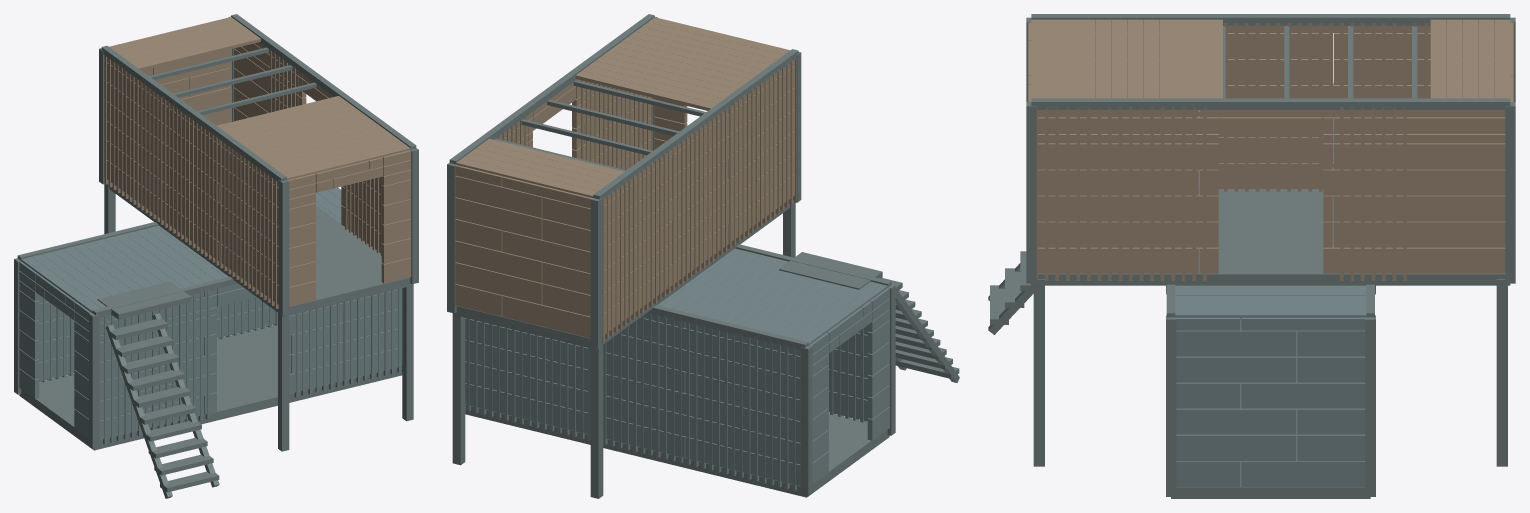
The model's file is 091_crossed_container_ruin.glb.
3 views of the same model, side by side, from view 1: azimuth 30°, elevation 25°; view 2: azimuth 150°, elevation 25°; view 3: azimuth 270°, elevation 25° (orthographic). The views are drawn at different scales.
Visible parts, largest first — view 1: BLD-091_exterior_Container_side, BLD-091_corrugation, BLD-091_roof, BLD-091_exterior_Container_end, BLD-091_floor, BLD-091_frame, BLD-091_stair, BLD-091_supports; view 2: BLD-091_exterior_Container_side, BLD-091_corrugation, BLD-091_roof, BLD-091_exterior_Container_end, BLD-091_frame, BLD-091_floor, BLD-091_stair, BLD-091_supports; view 3: BLD-091_exterior_Container_side, BLD-091_exterior_Container_end, BLD-091_roof, BLD-091_corrugation, BLD-091_frame, BLD-091_floor, BLD-091_supports, BLD-091_stair.
Part boxes in pixels (box(x1,y1,x2,y2)): BLD-091_exterior_Container_side: box(39, 42, 402, 439); BLD-091_corrugation: box(40, 48, 401, 445); BLD-091_roof: box(21, 17, 410, 312); BLD-091_exterior_Container_end: box(19, 49, 411, 438); BLD-091_floor: box(19, 187, 413, 450); BLD-091_frame: box(14, 14, 418, 449); BLD-091_stair: box(97, 281, 219, 498); BLD-091_supports: box(104, 184, 413, 451); BLD-091_exterior_Container_side: box(465, 60, 867, 485); BLD-091_corrugation: box(466, 57, 868, 492); BLD-091_roof: box(456, 17, 887, 345); BLD-091_exterior_Container_end: box(455, 98, 889, 483); BLD-091_frame: box(447, 14, 895, 496); BLD-091_floor: box(453, 204, 889, 497); BLD-091_stair: box(779, 252, 959, 382); BLD-091_supports: box(452, 200, 795, 498); BLD-091_exterior_Container_side: box(1038, 25, 1505, 273); BLD-091_exterior_Container_end: box(1028, 22, 1513, 486); BLD-091_roof: box(1031, 19, 1510, 319); BLD-091_corrugation: box(1036, 23, 1478, 280); BLD-091_frame: box(1026, 14, 1515, 496); BLD-091_floor: box(1031, 190, 1510, 498); BLD-091_supports: box(1033, 279, 1507, 466); BLD-091_stair: box(988, 169, 1199, 334).
Size of the model in its own units: 6.13 by 5.14 by 6.6.
